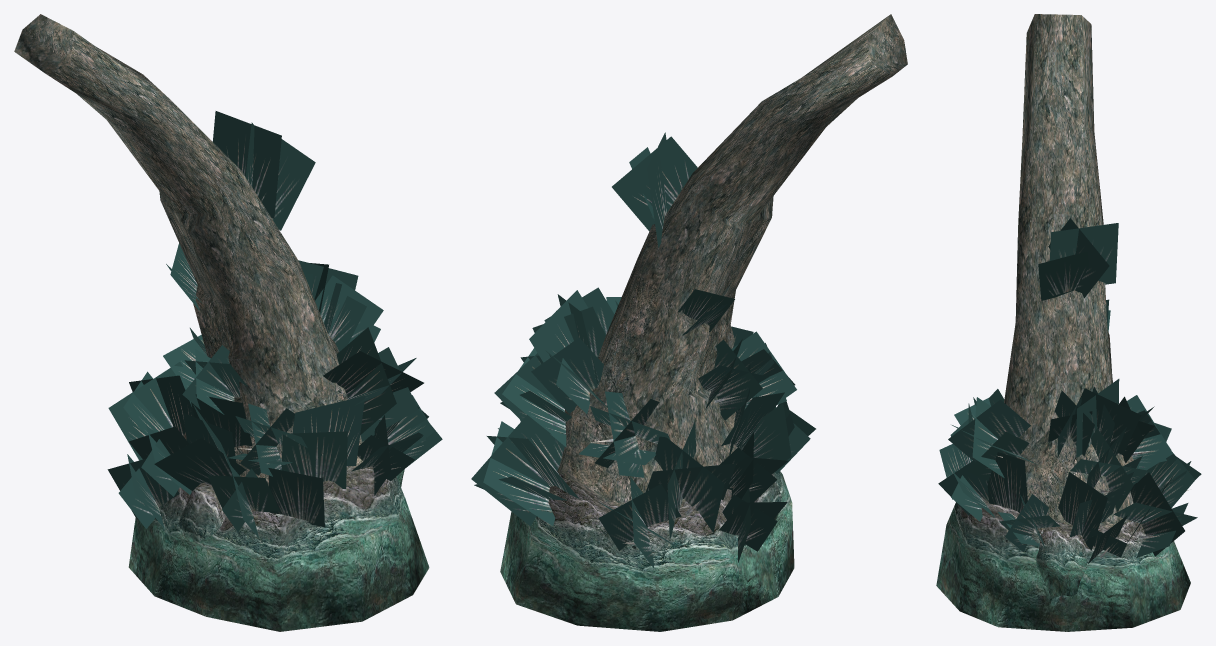
The model's file is rock_crystl_arch_half_med_l0.fbx.
3 views of the same model, side by side, from view 1: azimuth 30°, elevation 25°; view 2: azimuth 150°, elevation 25°; view 3: azimuth 270°, elevation 25° (orthographic). The views are drawn at different scales.
Parts seen in each view (by area): view 1: mesh_node; view 2: mesh_node; view 3: mesh_node.
Part boxes in pixels (left/top/right/bottom): mesh_node: left=14, top=14, right=442, bottom=631; mesh_node: left=471, top=14, right=907, bottom=631; mesh_node: left=936, top=14, right=1201, bottom=631.
Size of the model in its own units: 24.34 by 35.81 by 17.84.
